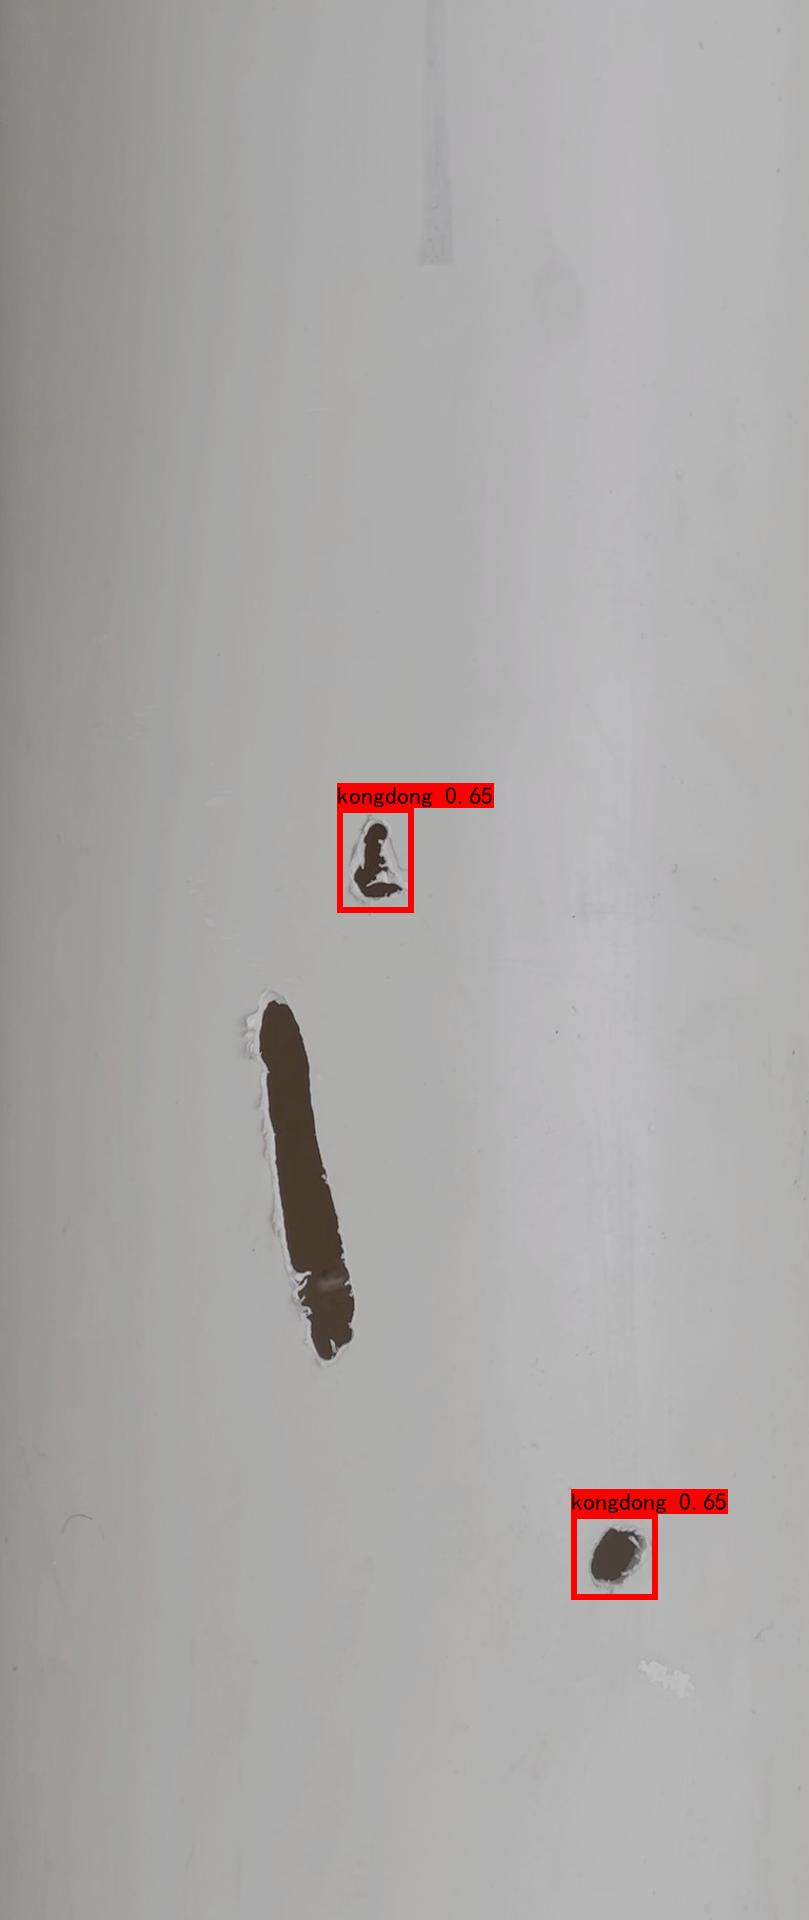fengxi: (237, 980, 372, 1381)
kongdong: (333, 804, 417, 917), (586, 1509, 661, 1608)
